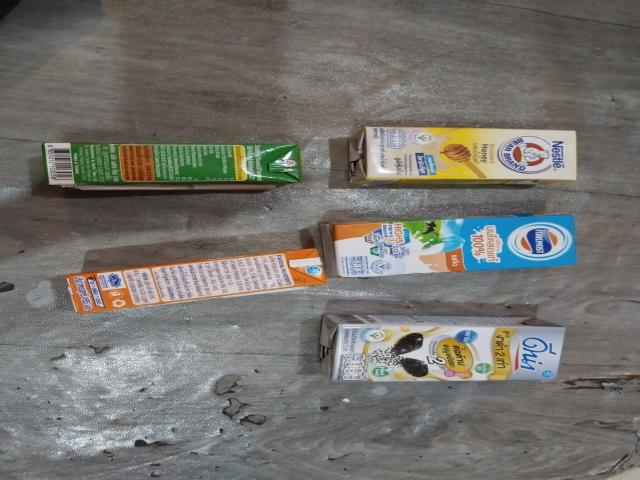drink_box: (60, 242, 346, 322), (295, 308, 577, 389), (316, 213, 592, 275), (350, 123, 590, 194), (32, 135, 299, 197)
